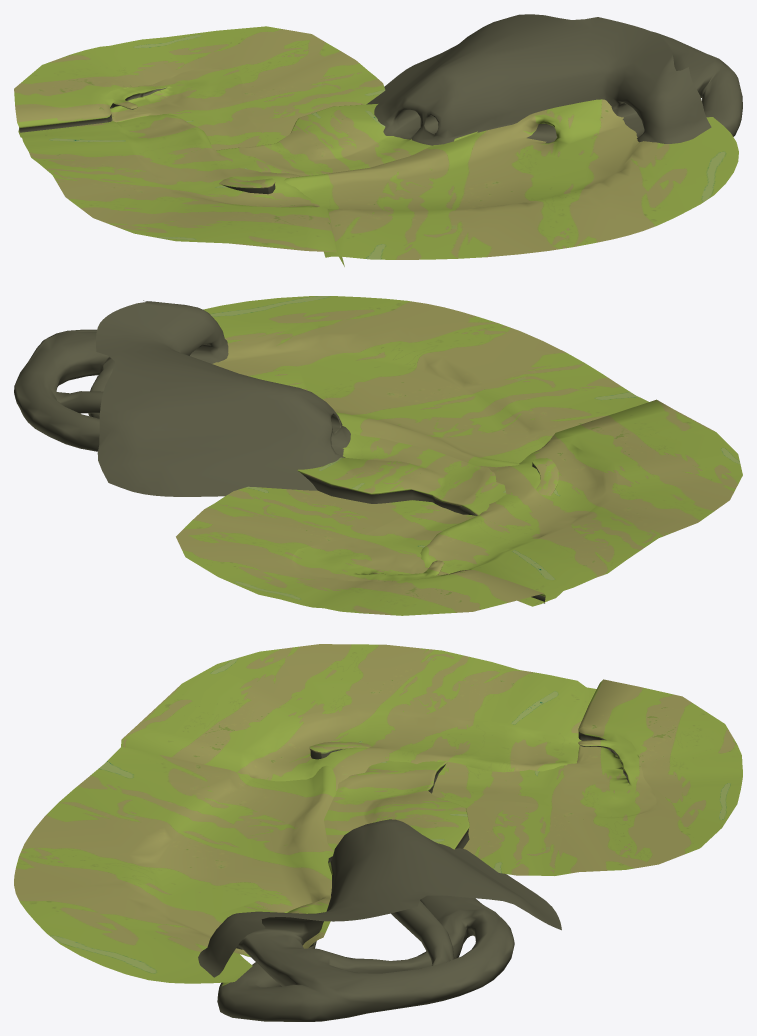
The model's file is big_terrain_04.obj.
3 renders of one model, top to bottom at view 1: azimuth 30°, elevation 25°; view 2: azimuth 150°, elevation 25°; view 3: azimuth 270°, elevation 25°, orthographic. The views are drawn at different scales.
Visible parts, largest first — view 1: desert_03, start39, half_pipe_02, finish_part_01, ramp_01; view 2: desert_03, half_pipe_02, start39, finish_part_01, ramp_01; view 3: desert_03, half_pipe_02, start39, finish_part_01.
Part boxes in pixels (x1,y1,x2,y2): desert_03: (284,14,742,259); start39: (14,26,385,150); half_pipe_02: (18,114,344,266); finish_part_01: (216,103,431,175); ramp_01: (219,177,275,194); desert_03: (14,296,648,496); half_pipe_02: (420,399,742,606); start39: (176,486,545,615); finish_part_01: (297,433,506,515); ramp_01: (532,458,558,495); desert_03: (14,746,561,1021); half_pipe_02: (121,644,596,790); start39: (431,679,742,875); finish_part_01: (324,760,469,851).
Size of the model in its own units: 202 by 23.55 by 175.
3 materials, 2 textured.
